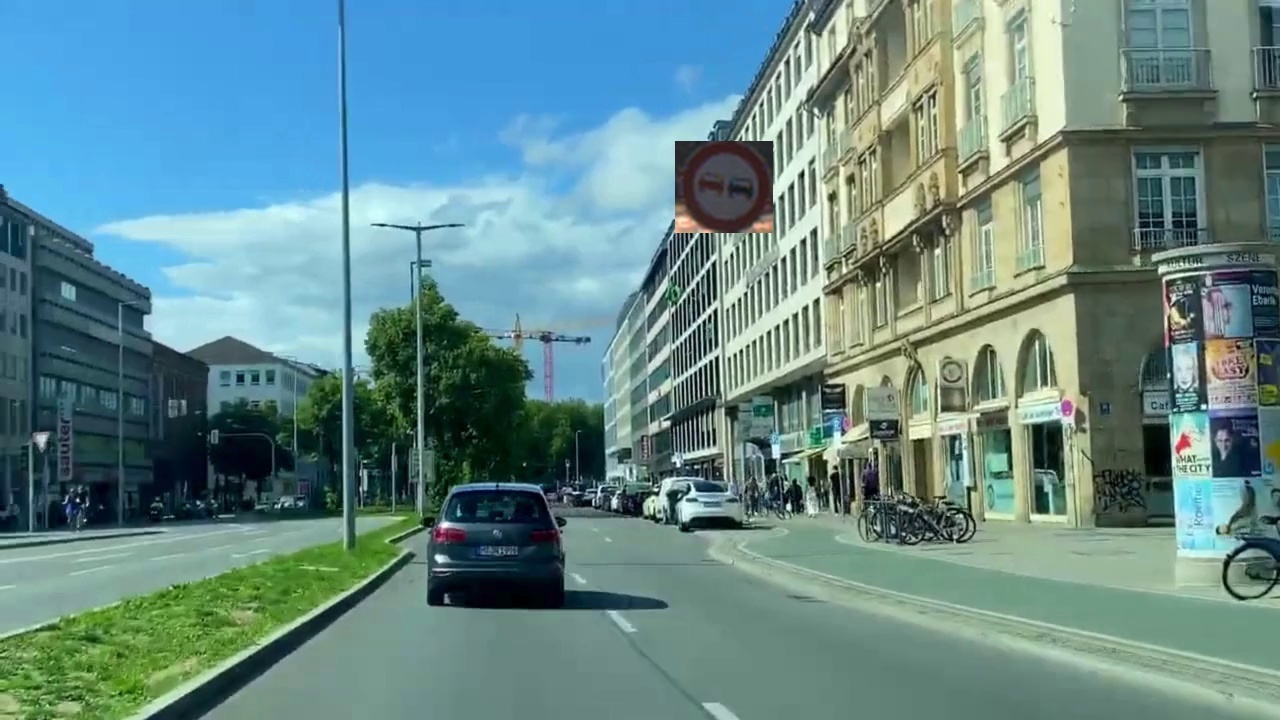No passing: (675, 141, 773, 233)
